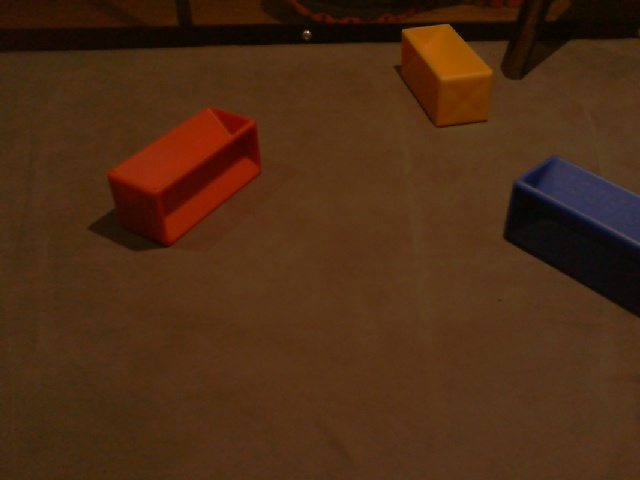BlueSample: (500, 152, 640, 318)
RedSample: (103, 105, 264, 250)
YellowSample: (400, 20, 493, 130)
